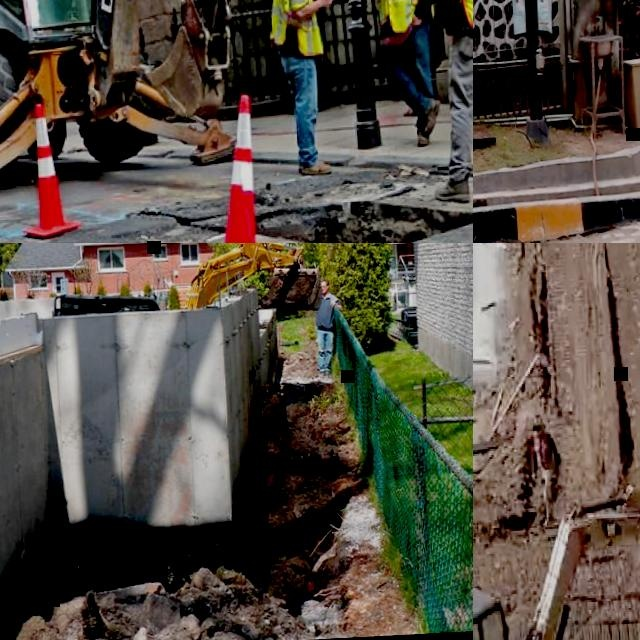NO-Hardhat: (321, 278, 331, 286)
NO-Mask: (322, 288, 331, 295)
NO-Safety Vest: (314, 294, 335, 330)
Person: (352, 0, 446, 151), (264, 0, 342, 179), (418, 0, 473, 202), (531, 417, 564, 526), (312, 278, 347, 374)
Safety Cone: (198, 95, 277, 243), (21, 106, 83, 242)
Safety Vest: (268, 0, 325, 57), (376, 0, 424, 34)
machinery: (0, 0, 253, 211), (473, 455, 640, 640), (181, 243, 326, 320)
vehicle: (52, 289, 162, 319)
